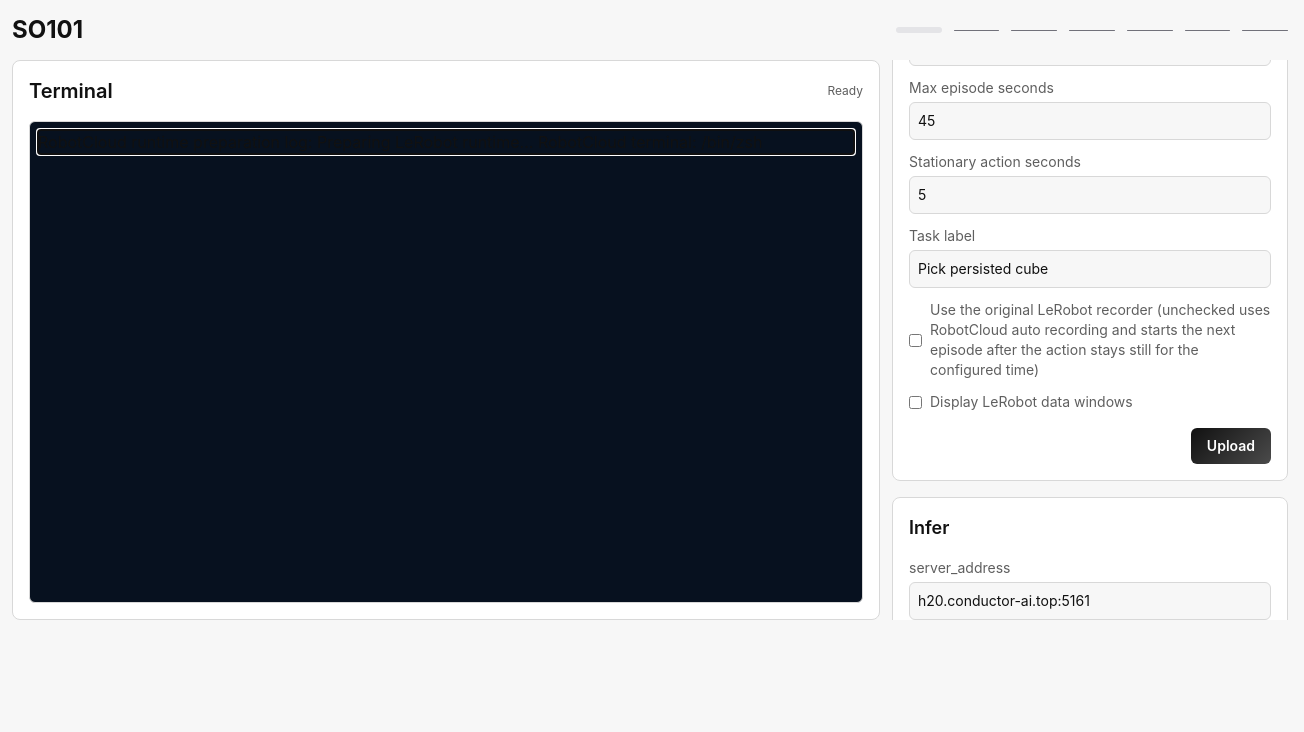
SO101 terminal session › restores persisted record card settings from local storage
The image size is (1304, 732).
(page scrolled)
Expected: the text with test id "mock-xterm" shows "RobotCloud terminal: /bin/zsh", [38,132,762,152]
Expected: the field labelled "Max episode seconds" holds "45", [909,102,1271,140]
Click the checkbox labelled "original LeRobot recorder". click: (916, 340)
box: [909,334,922,346]
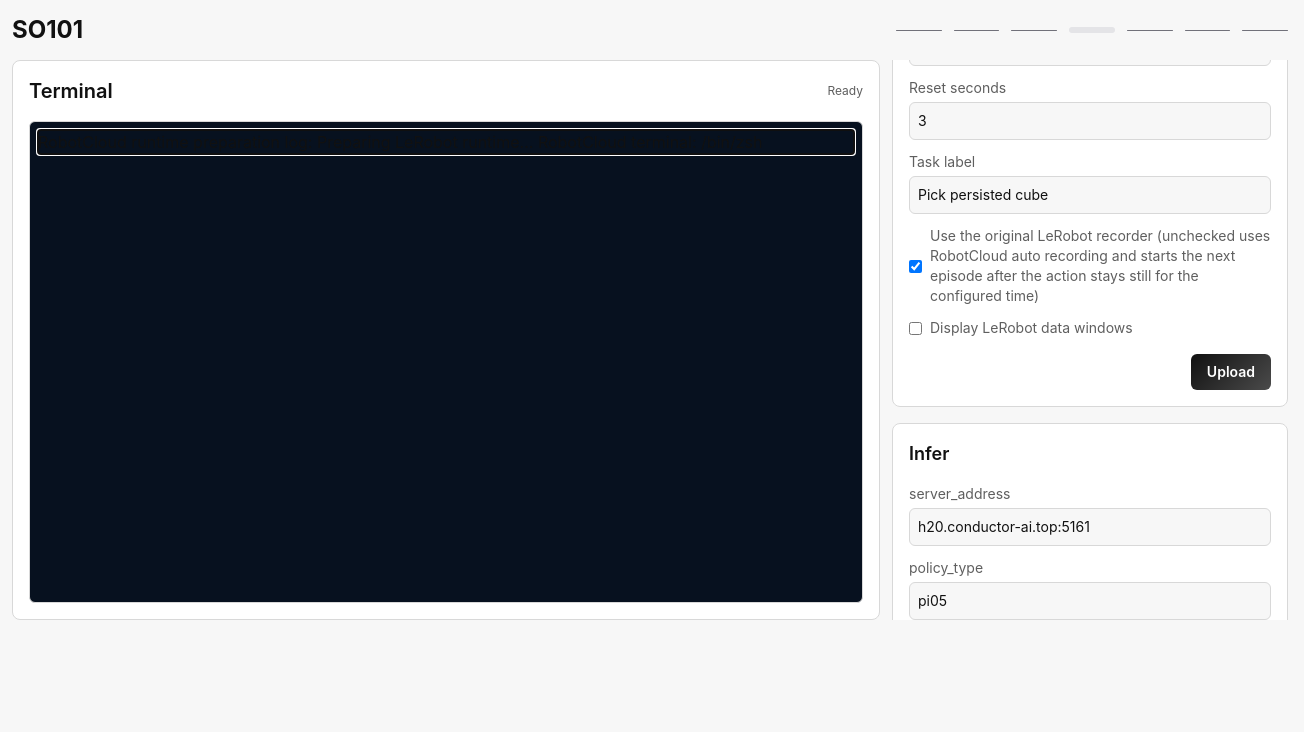
Result: the field labelled "Reset seconds" holds "3" at [909,102,1271,140]
